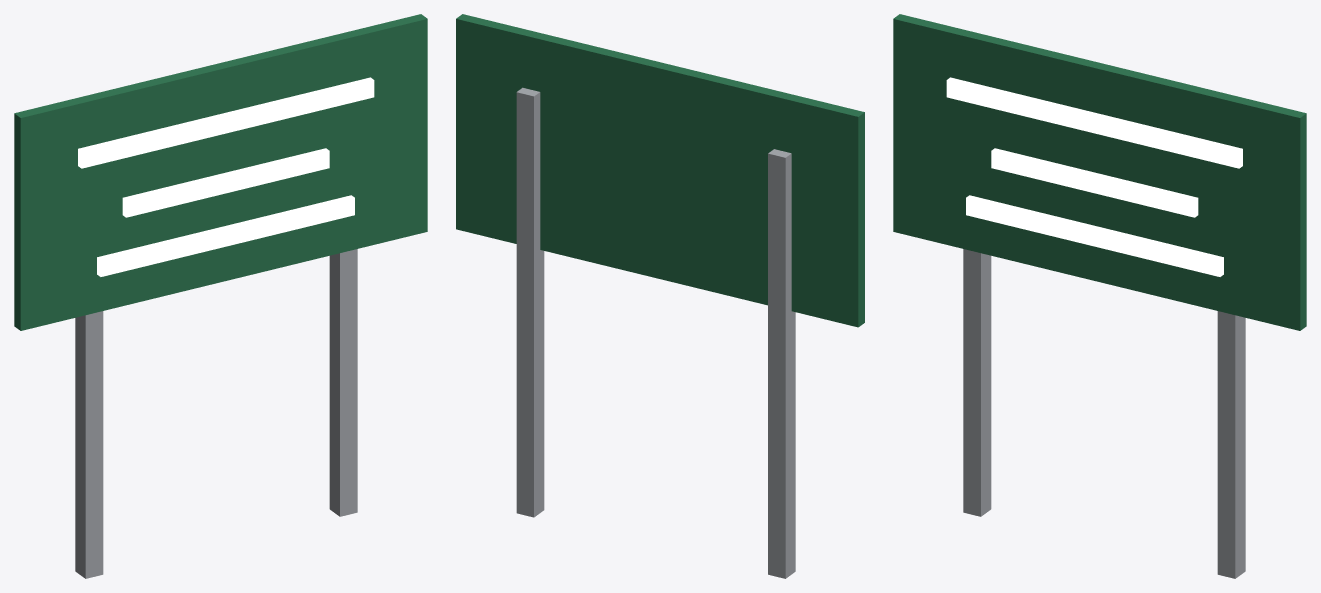
The model's file is sign.glb.
3 views of the same model, side by side, from view 1: azimuth 30°, elevation 25°; view 2: azimuth 150°, elevation 25°; view 3: azimuth 330°, elevation 25° (orthographic).
Visible parts, largest first — view 1: sign; view 2: sign; view 3: sign.
Part boxes in pixels (x1,y1,x2,y2): sign: (14, 14, 427, 578); sign: (456, 14, 864, 578); sign: (893, 14, 1306, 578).
Size of the model in its own units: 3.2 by 3.6 by 0.225.
